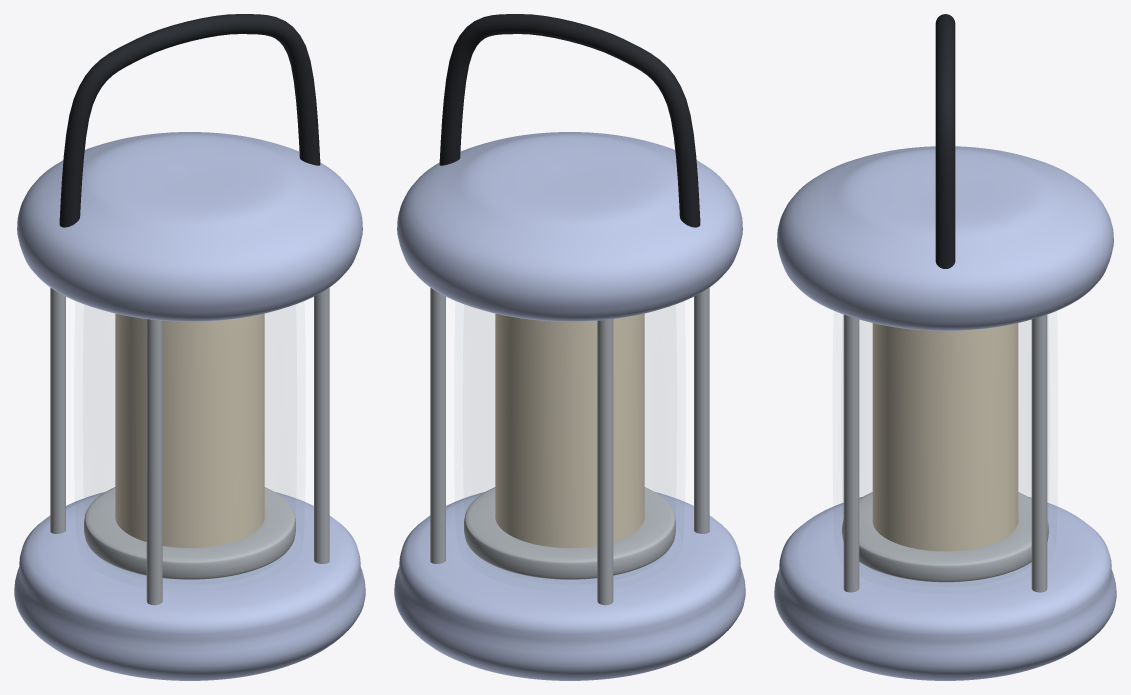
Rendered from camp-lantern.glb.
The picture shows the model from 3 angles, left to right: view 1: azimuth 30°, elevation 25°; view 2: azimuth 150°, elevation 25°; view 3: azimuth 270°, elevation 25°; orthographic projection. The views are drawn at different scales.
Parts seen in each view (by area): view 1: sculpted-surface (×3), illuminated-lantern-diffuser-003, carry-handle-023, machined-annular-ring, protective-metal-cage-007, protective-metal-cage-006, protective-metal-cage-008; view 2: sculpted-surface (×3), illuminated-lantern-diffuser-003, carry-handle-023, machined-annular-ring, protective-metal-cage-008, protective-metal-cage-009, protective-metal-cage-007; view 3: sculpted-surface (×3), illuminated-lantern-diffuser-003, machined-annular-ring, carry-handle-023, protective-metal-cage-006, protective-metal-cage-009.
Part boxes in pixels (x1,y1,x2,y2): sculpted-surface (×3): (14,132,365,680); illuminated-lantern-diffuser-003: (115,313,264,547); carry-handle-023: (59,14,320,227); machined-annular-ring: (84,487,295,579); protective-metal-cage-007: (146,319,162,605); protective-metal-cage-006: (314,287,329,563); protective-metal-cage-008: (50,287,65,533); sculpted-surface (×3): (394,132,745,680); illuminated-lantern-diffuser-003: (495,313,644,547); carry-handle-023: (439,14,700,227); machined-annular-ring: (464,487,675,579); protective-metal-cage-008: (597,319,613,605); protective-metal-cage-009: (430,287,445,563); protective-metal-cage-007: (694,287,709,533); sculpted-surface (×3): (774,146,1116,680); illuminated-lantern-diffuser-003: (872,323,1018,551); machined-annular-ring: (842,492,1048,582); carry-handle-023: (935,14,955,268); protective-metal-cage-006: (843,314,859,592); protective-metal-cage-009: (1031,314,1047,592).
Bounding box in the file's own units: 1.06 × 2 × 1.06.
